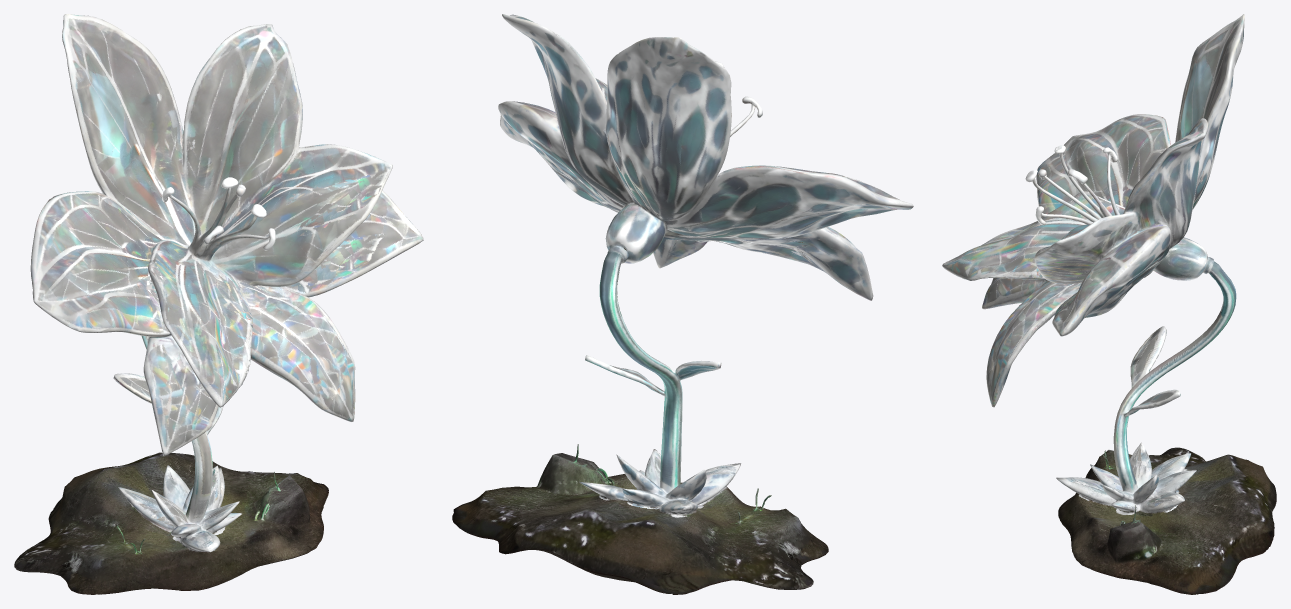
File: Prismatic_Bloom.fbx
The picture shows the model from 3 angles, left to right: view 1: azimuth 30°, elevation 25°; view 2: azimuth 150°, elevation 25°; view 3: azimuth 270°, elevation 25°; orthographic projection. The views are drawn at different scales.
Visible parts, largest first — view 1: Prismatic_Bloom_LOD0; view 2: Prismatic_Bloom_LOD0; view 3: Prismatic_Bloom_LOD0.
Part boxes in pixels (x1,y1,x2,y2): Prismatic_Bloom_LOD0: (14,14,423,594); Prismatic_Bloom_LOD0: (452,14,913,594); Prismatic_Bloom_LOD0: (942,14,1276,594).
Size of what is drawn, in the model's own units: 1.48 by 1.9 by 1.2.
Materials: 1 (1 with a texture image).
